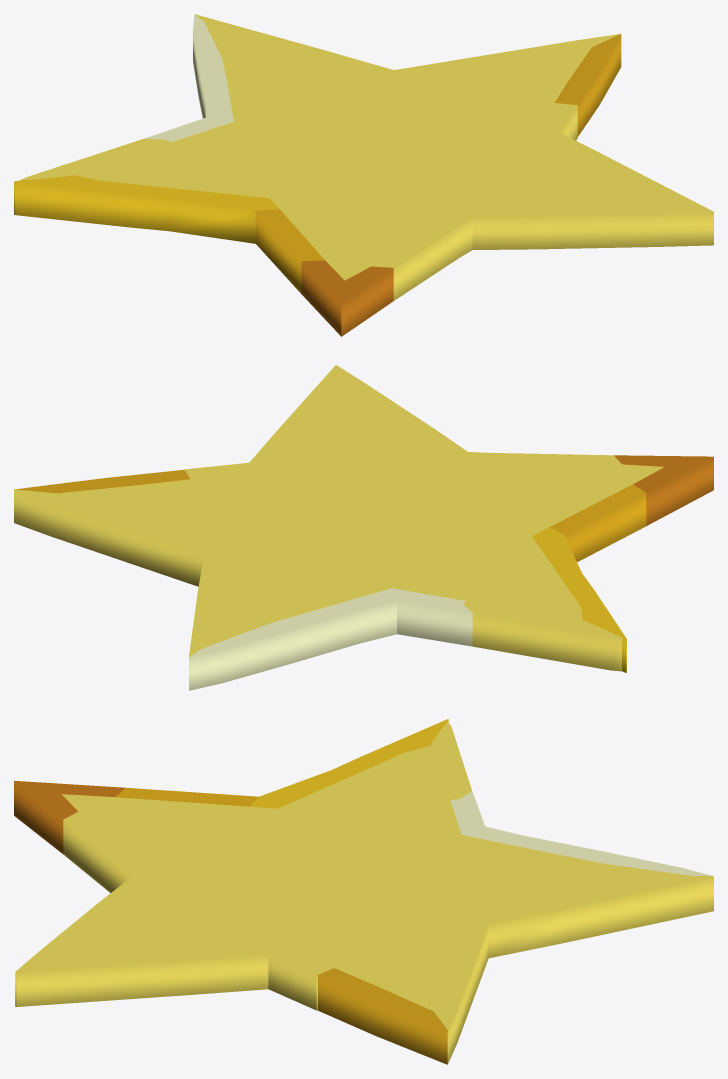
The model's file is star.fbx.
3 renders of one model, top to bottom at view 1: azimuth 30°, elevation 25°; view 2: azimuth 150°, elevation 25°; view 3: azimuth 270°, elevation 25°, orthographic. The views are drawn at different scales.
Visible parts, largest first — view 1: star; view 2: star; view 3: star.
Part boxes in pixels (<box>): star: <box>14,14,713,336</box>; star: <box>14,365,713,690</box>; star: <box>14,719,713,1064</box>.
Bounding box in the file's own units: 31.28 × 1.64 × 29.77.
